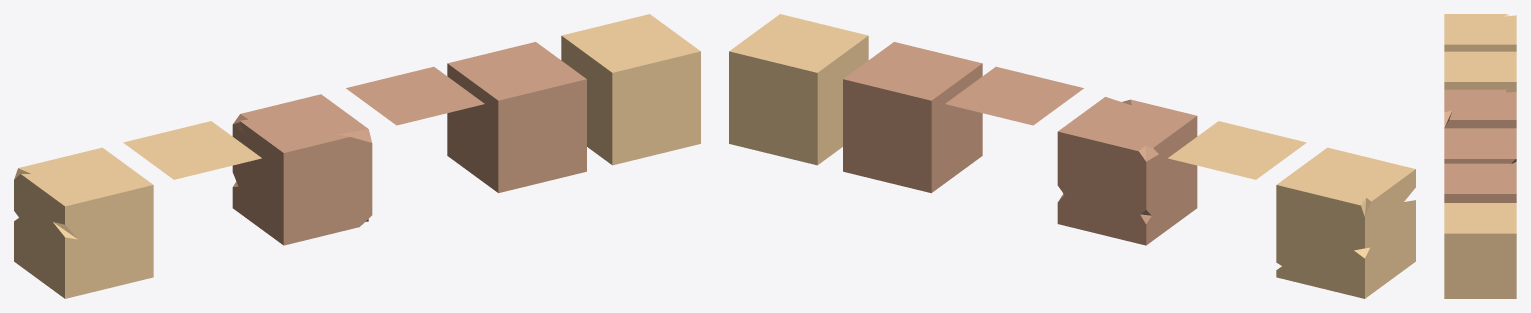
Rendered from world-blocks.glb.
The picture shows the model from 3 angles, left to right: view 1: azimuth 30°, elevation 25°; view 2: azimuth 150°, elevation 25°; view 3: azimuth 270°, elevation 25°; orthographic projection. The views are drawn at different scales.
Visible parts, largest first — view 1: Block, DarkBlock, NBlock, NoBlock, DarkFloor, Floor; view 2: Block, DarkBlock, NBlock, NoBlock, DarkFloor, Floor; view 3: NoBlock, Block, DarkBlock, NBlock, Floor, DarkFloor.
Boxes of the visible parts, x1,y1,x2,y2 form: Block: (14, 147, 153, 298); DarkBlock: (232, 94, 372, 245); NBlock: (447, 42, 586, 193); NoBlock: (561, 14, 700, 165); DarkFloor: (346, 66, 484, 125); Floor: (123, 121, 261, 179); Block: (1276, 147, 1415, 298); DarkBlock: (1057, 97, 1197, 245); NBlock: (843, 42, 982, 193); NoBlock: (729, 14, 868, 165); DarkFloor: (945, 66, 1083, 125); Floor: (1168, 121, 1306, 179); NoBlock: (1444, 203, 1516, 298); Block: (1444, 14, 1516, 92); DarkBlock: (1444, 89, 1516, 163); NBlock: (1444, 163, 1516, 202); Floor: (1444, 51, 1516, 81); DarkFloor: (1444, 128, 1516, 158).
Size of what is drawn, in the model's own units: 14.38 by 2 by 2.
